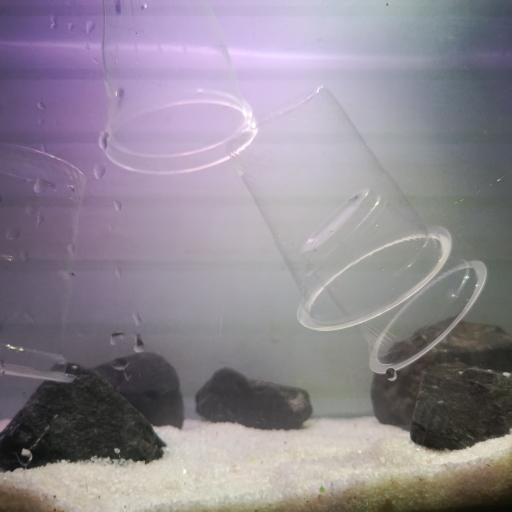plastic_cup: (224, 81, 455, 335), (298, 187, 488, 375), (98, 0, 262, 178), (2, 140, 84, 384)
